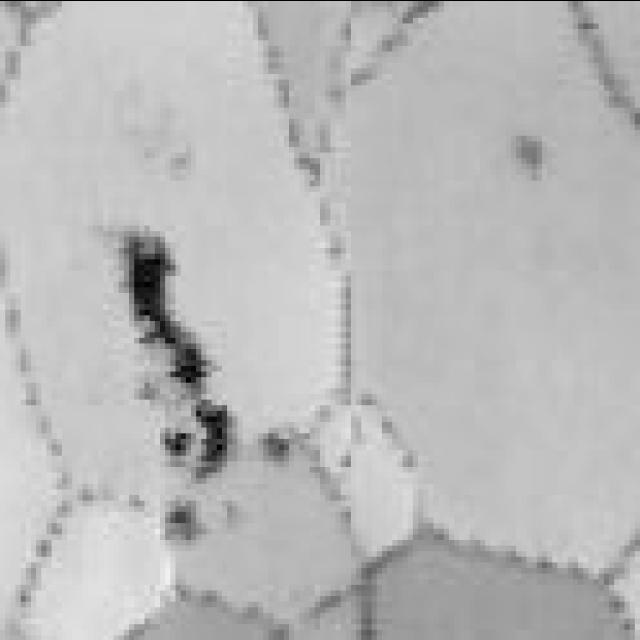good_void: (124, 236, 206, 382), (196, 404, 227, 466), (516, 135, 547, 174), (165, 505, 206, 533), (263, 432, 289, 460), (165, 432, 191, 449), (139, 382, 160, 393)
